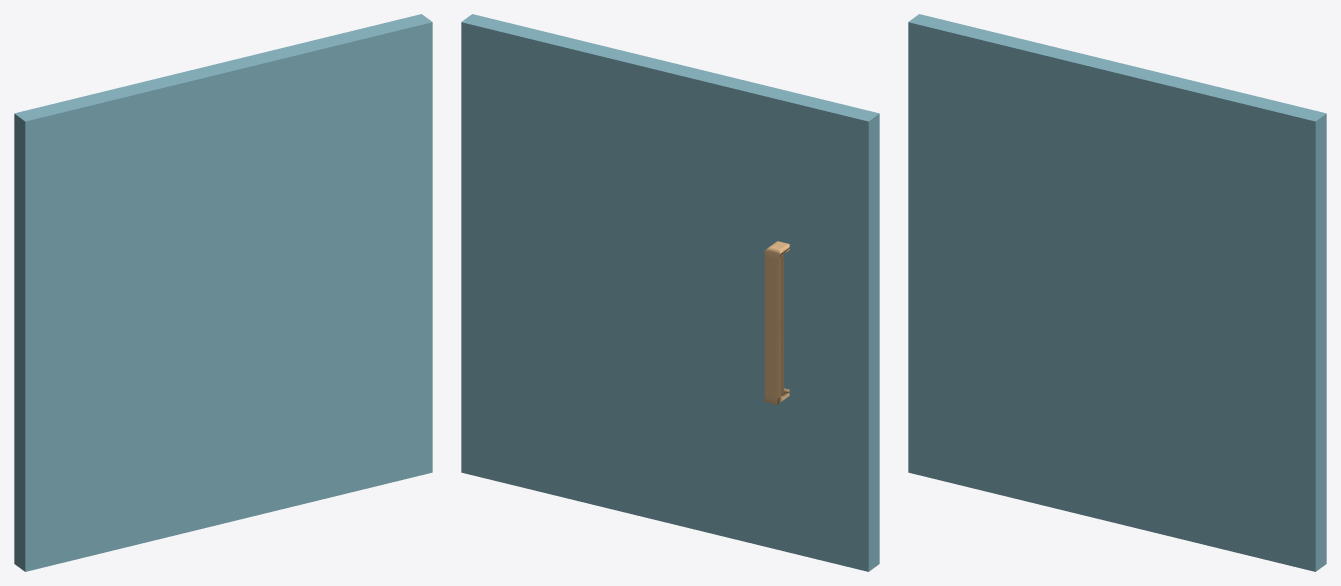
File: Puerta_fregadero1.fbx
3 views of the same model, side by side, from view 1: azimuth 30°, elevation 25°; view 2: azimuth 150°, elevation 25°; view 3: azimuth 330°, elevation 25° (orthographic).
Visible parts, largest first — view 1: Puerta.010; view 2: Puerta.010; view 3: Puerta.010.
Part boxes in pixels (box(x1,y1,x2,y2)): Puerta.010: box(14, 14, 432, 571); Puerta.010: box(461, 14, 879, 571); Puerta.010: box(908, 14, 1326, 571).
Bounding box in the file's own units: 8.47 × 8.94 × 0.8537.
